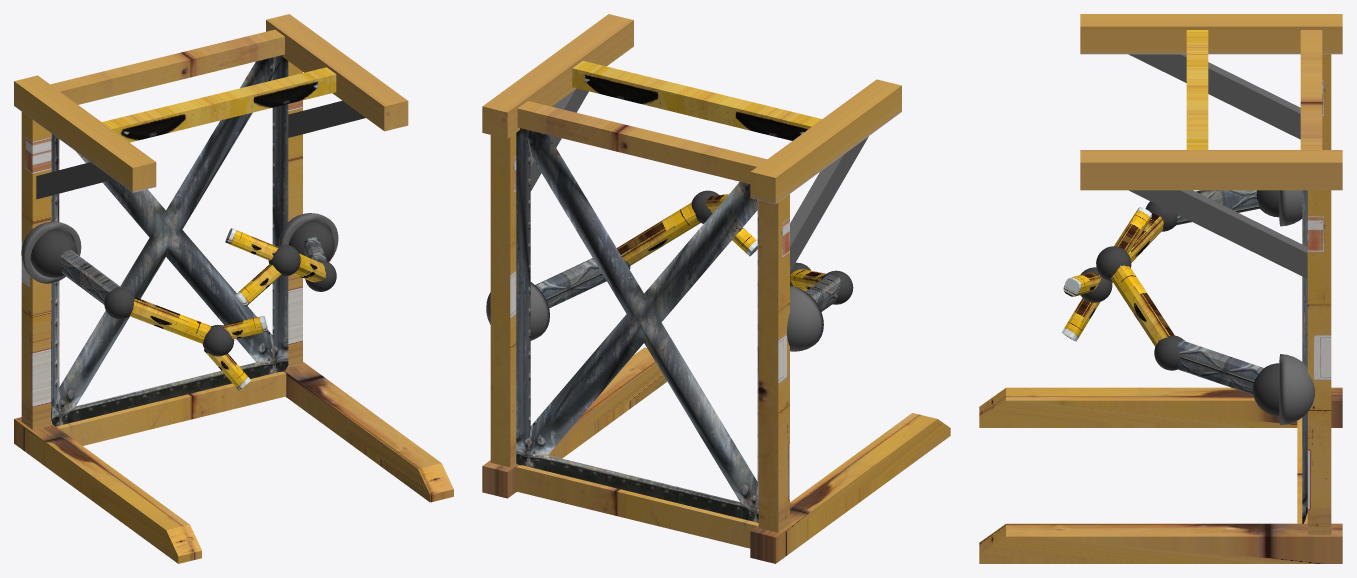
Rendered from Robo_Repair_station.fbx.
The picture shows the model from 3 angles, left to right: view 1: azimuth 30°, elevation 25°; view 2: azimuth 150°, elevation 25°; view 3: azimuth 270°, elevation 25°; orthographic projection. The views are drawn at different scales.
Parts seen in each view (by area): view 1: Cube; view 2: Cube; view 3: Cube.
Boxes of the visible parts, <box> form: Cube: <box>14,14,453,563</box>; Cube: <box>482,14,950,563</box>; Cube: <box>979,14,1342,563</box>.
Size of the model in its own units: 748 by 828 by 680.
